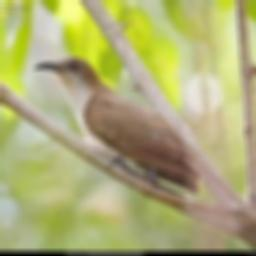Cuckoo: (28, 55, 199, 198)
